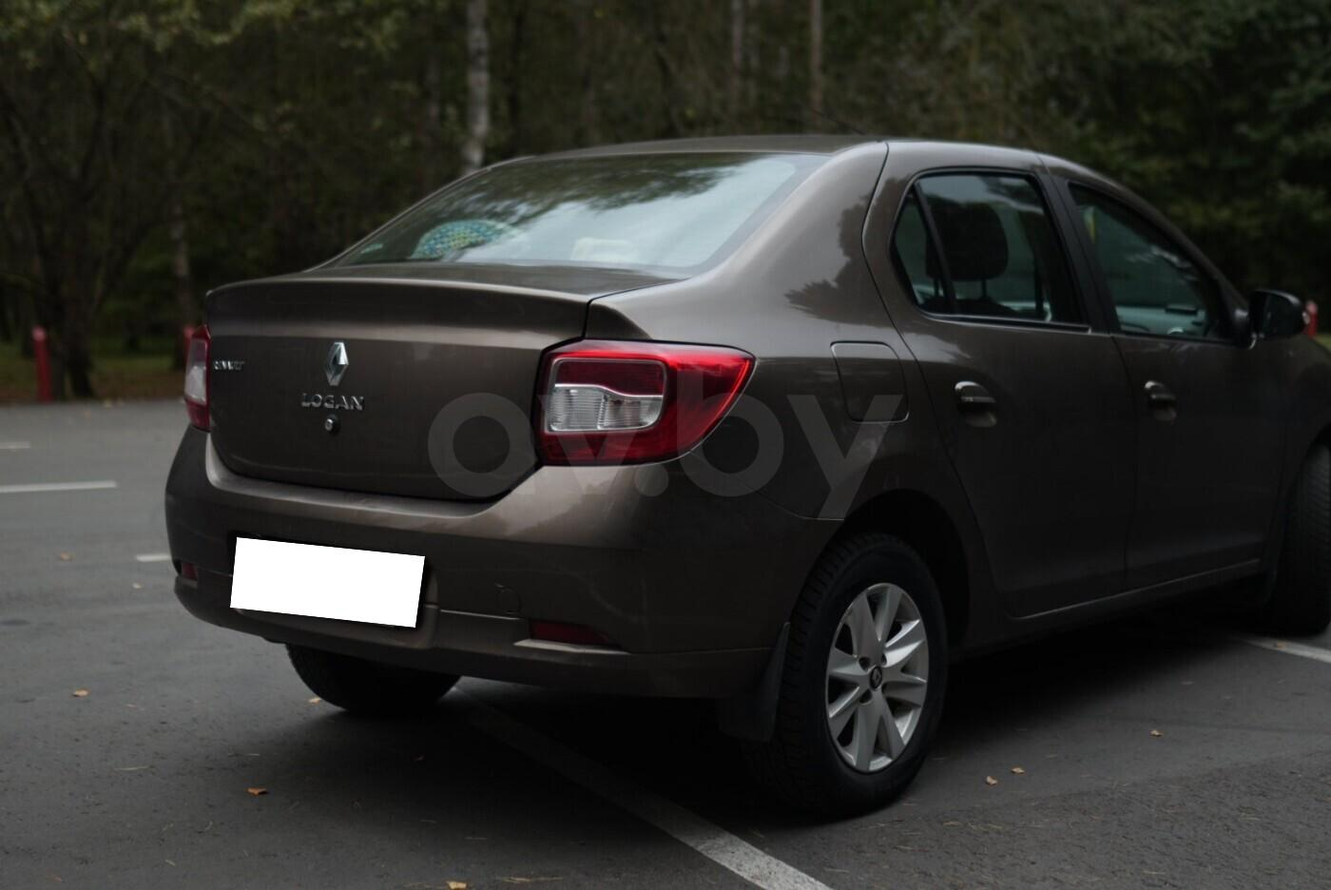Logan_2018: (155, 126, 1331, 805)
